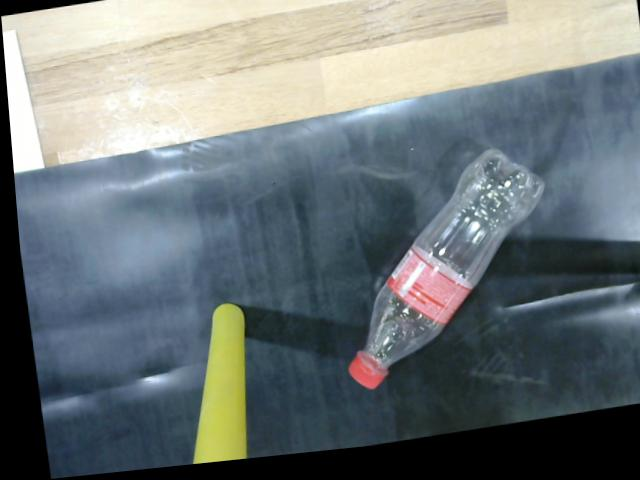bottle: (338, 150, 542, 403)
